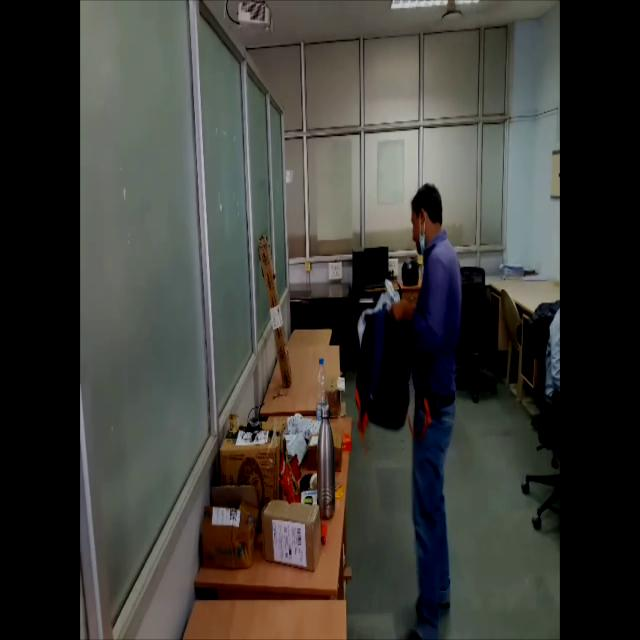shoplifting: (355, 183, 468, 634)
